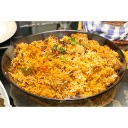briyani: (16, 39, 114, 94)
